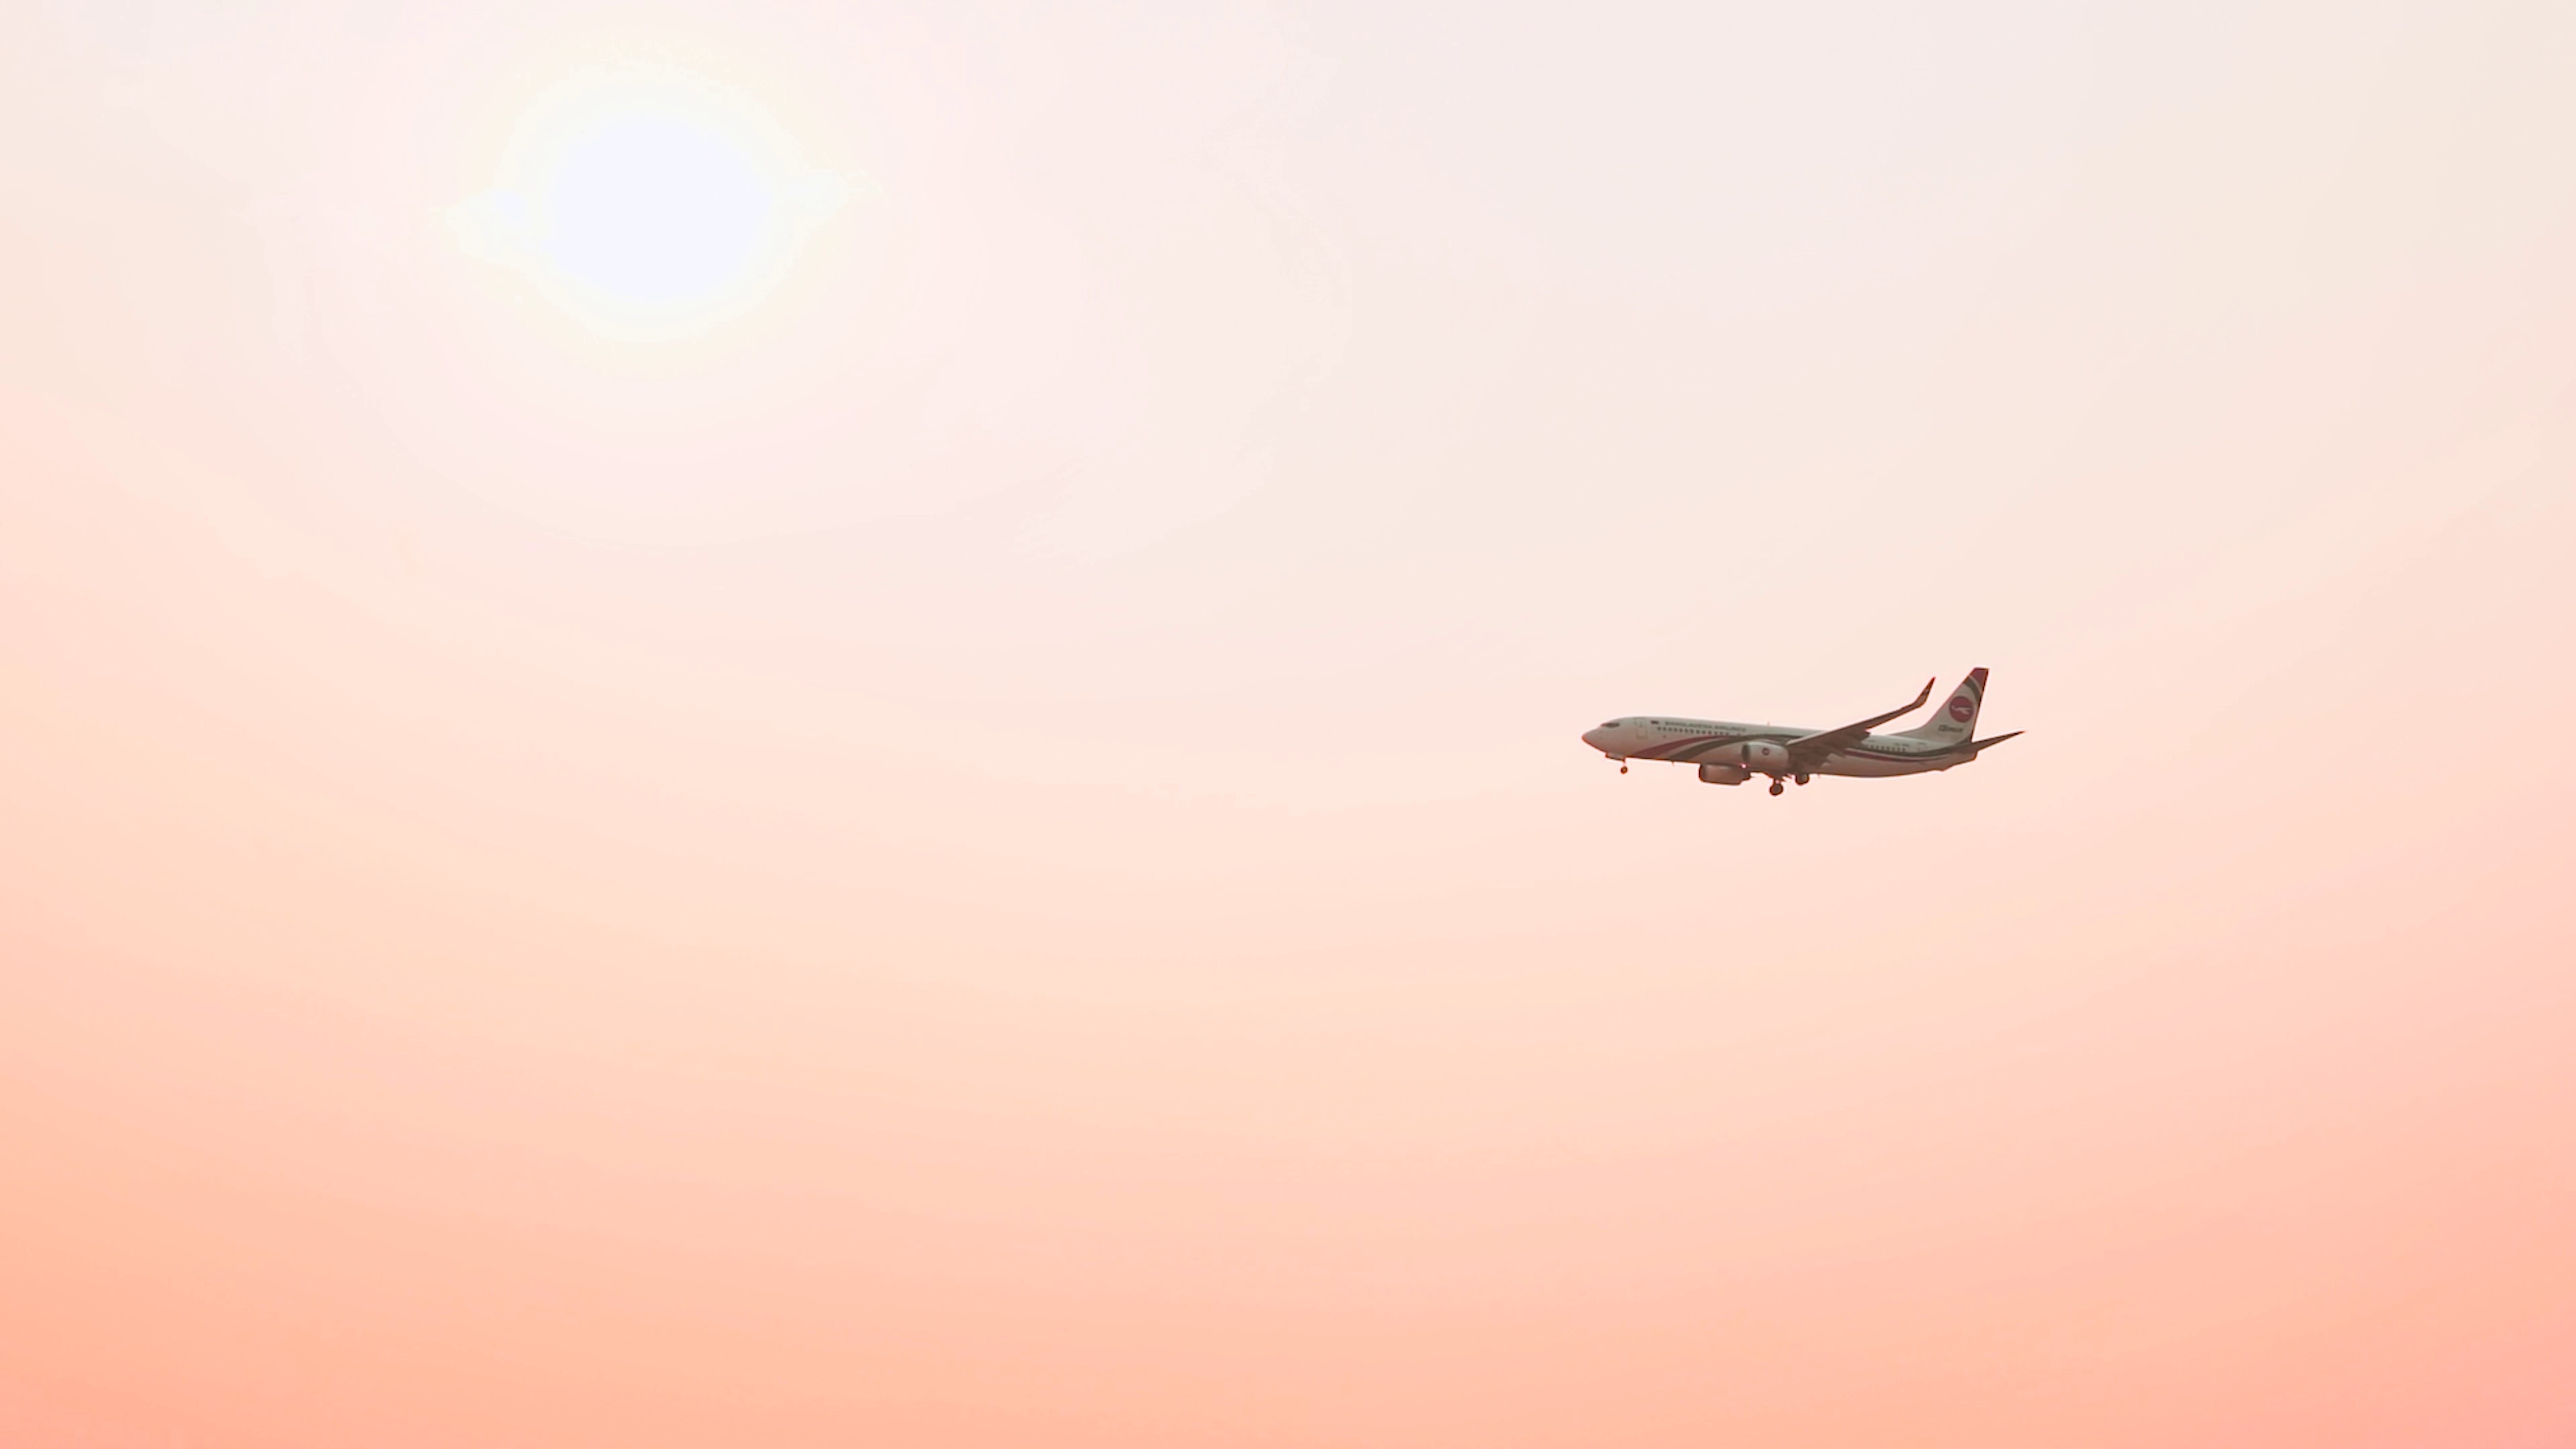plane: (1580, 667, 2024, 794)
